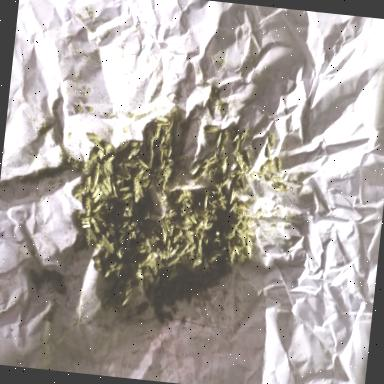pbw: (132, 300, 150, 318), (90, 165, 102, 191), (132, 177, 145, 201), (231, 224, 248, 240), (226, 240, 237, 264), (192, 168, 206, 186), (268, 183, 292, 193), (231, 128, 245, 145), (258, 156, 270, 175), (203, 123, 221, 135), (233, 152, 248, 166), (191, 161, 204, 177), (86, 130, 103, 142), (90, 216, 102, 233), (153, 122, 162, 144), (87, 228, 99, 244), (272, 156, 284, 172), (226, 225, 238, 241), (128, 146, 140, 162), (81, 157, 92, 174), (160, 222, 168, 245), (205, 202, 219, 215), (93, 189, 105, 204), (170, 241, 180, 259), (154, 310, 166, 325), (73, 188, 84, 204), (93, 258, 104, 274), (66, 156, 80, 168), (118, 139, 132, 151), (92, 140, 106, 152), (204, 156, 216, 170), (245, 148, 254, 166), (104, 176, 113, 194), (116, 171, 132, 181), (210, 249, 226, 259), (146, 128, 154, 148), (102, 162, 115, 174), (217, 197, 228, 211), (136, 158, 150, 169), (154, 116, 170, 125), (120, 182, 132, 194), (227, 200, 238, 213), (213, 99, 226, 110), (90, 186, 100, 200), (120, 160, 137, 168), (156, 158, 165, 173), (266, 129, 275, 144), (84, 195, 91, 214), (92, 202, 104, 213), (224, 152, 230, 174), (174, 191, 185, 203), (168, 118, 176, 134), (216, 130, 223, 148), (246, 242, 253, 260), (199, 222, 213, 231), (166, 142, 172, 163), (100, 184, 109, 198), (186, 214, 197, 225), (269, 176, 284, 184), (154, 174, 164, 186), (148, 146, 154, 166), (166, 208, 176, 220), (166, 237, 172, 256), (131, 140, 145, 148), (116, 246, 124, 260), (120, 296, 130, 307), (230, 168, 240, 179), (237, 205, 248, 215), (122, 190, 133, 200), (121, 204, 134, 212), (84, 176, 92, 189), (232, 243, 240, 256), (112, 182, 118, 199), (104, 268, 112, 280), (164, 130, 170, 146), (81, 222, 92, 230), (104, 229, 116, 236), (219, 144, 225, 158), (120, 234, 127, 246), (218, 185, 225, 197), (166, 221, 172, 235), (106, 154, 115, 163), (204, 190, 214, 198), (136, 167, 146, 175), (117, 228, 127, 236), (160, 133, 165, 149), (146, 239, 152, 252), (143, 176, 152, 184), (76, 208, 82, 220), (100, 220, 107, 230), (106, 222, 116, 229), (162, 179, 166, 196), (158, 148, 164, 159), (162, 148, 168, 158), (80, 217, 90, 222), (130, 232, 136, 240), (108, 202, 114, 210), (122, 220, 128, 228), (146, 169, 152, 177), (234, 179, 240, 186), (181, 208, 186, 216), (128, 212, 134, 218), (104, 200, 108, 208), (124, 211, 128, 218)
